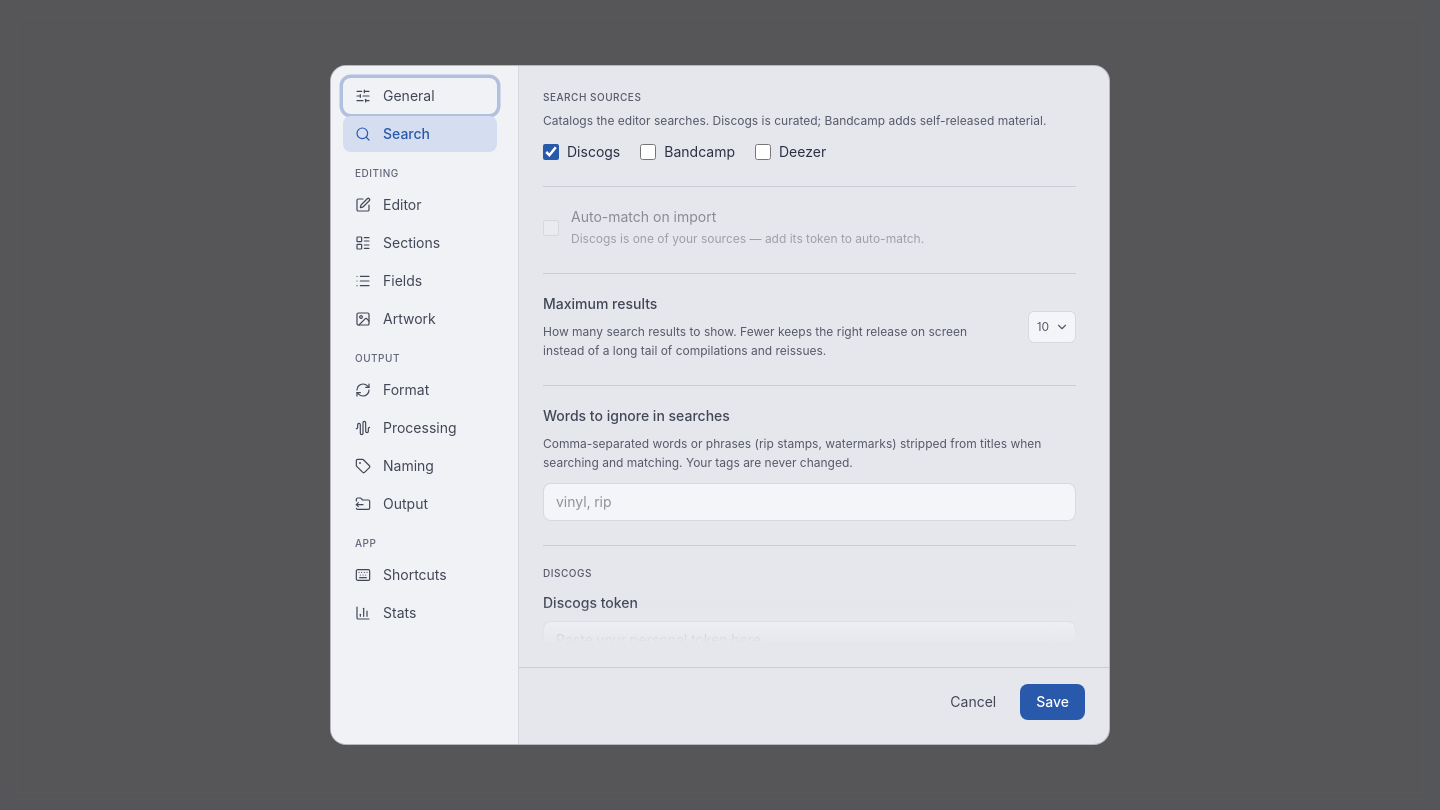
Test case: SettingsModal auto-match › disables the Discogs-only settings when Discogs is not a search source
Click the checkbox with test id "settings-provider-discogs" at (551, 152), box [543,144,559,160]
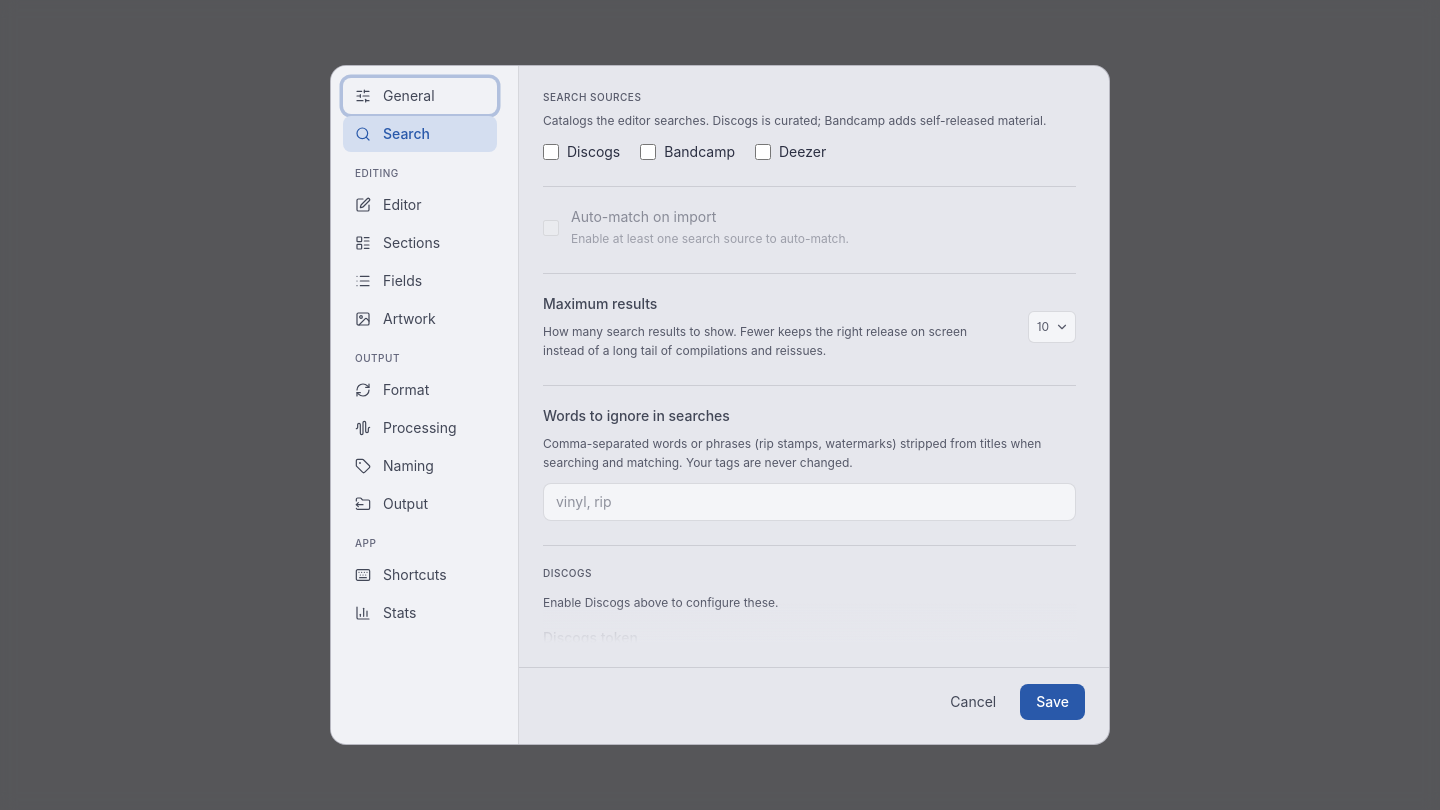
Now the text "Enable Discogs above to configure these." is shown, box [543,595,778,610]
